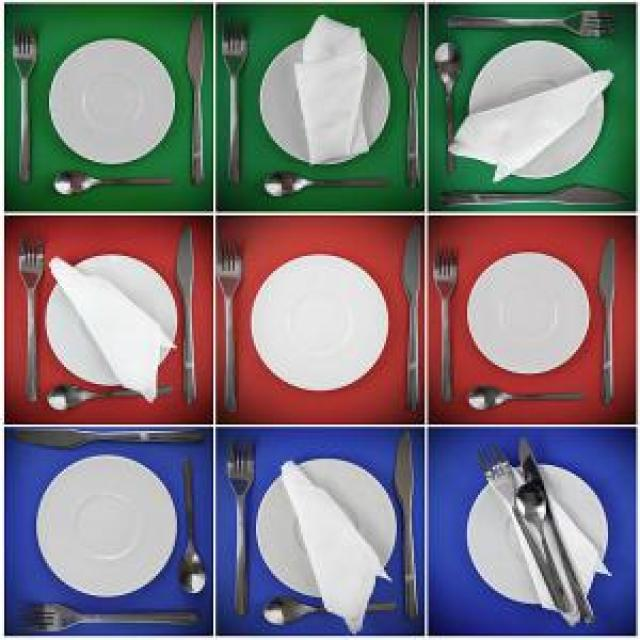knife: (514, 431, 591, 620), (388, 431, 422, 620), (394, 220, 424, 410), (591, 232, 624, 399), (436, 183, 630, 208), (175, 215, 199, 408), (184, 7, 210, 178), (0, 427, 201, 449), (397, 9, 420, 188)
